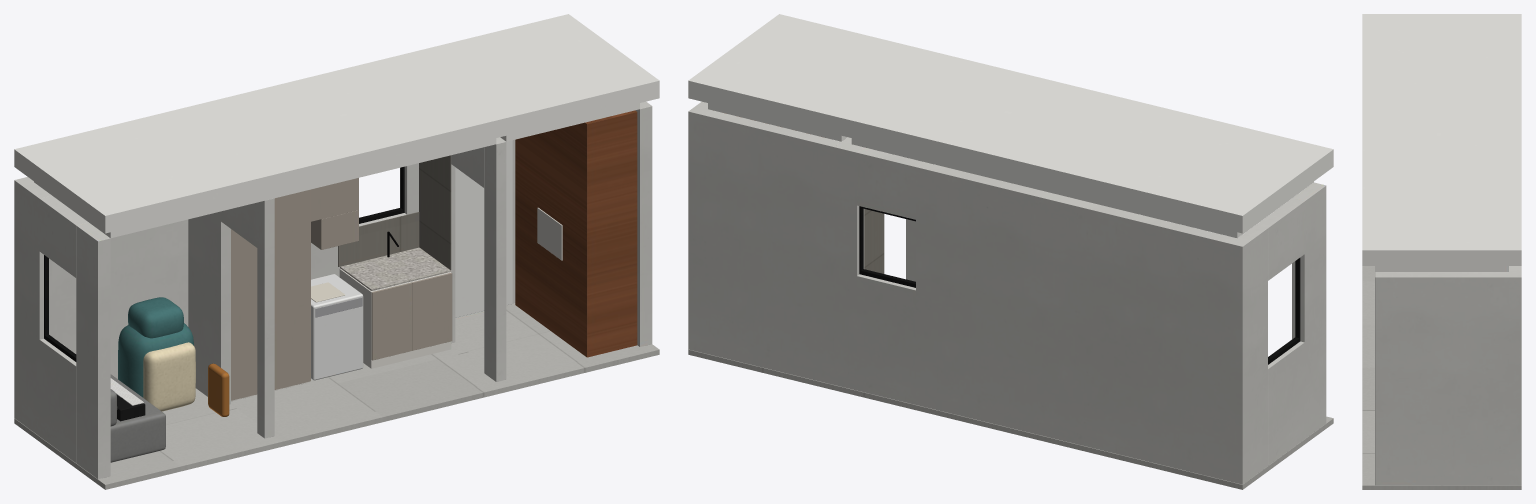
File: casa_servico.glb
The picture shows the model from 3 angles, left to right: view 1: azimuth 30°, elevation 25°; view 2: azimuth 150°, elevation 25°; view 3: azimuth 270°, elevation 25°; orthographic projection. The views are drawn at different scales.
Visible parts, largest first — view 1: ZONA_servico; view 2: ZONA_servico; view 3: ZONA_servico.
Part boxes in pixels (x1=…): ZONA_servico: x1=14, y1=14, x2=659, y2=489; ZONA_servico: x1=688, y1=14, x2=1333, y2=489; ZONA_servico: x1=1362, y1=14, x2=1521, y2=489.
Bounding box in the file's own units: 6.59 × 3.11 × 1.87.
Materials: 1 (1 with a texture image).
